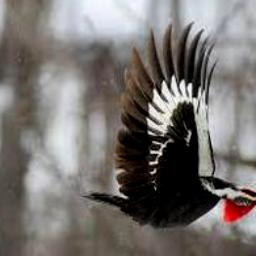Woodpecker: (84, 25, 256, 227)
